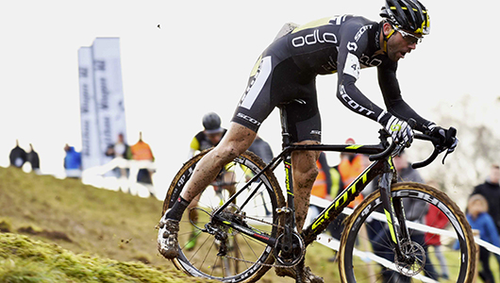bikerider: (147, 1, 482, 283)
